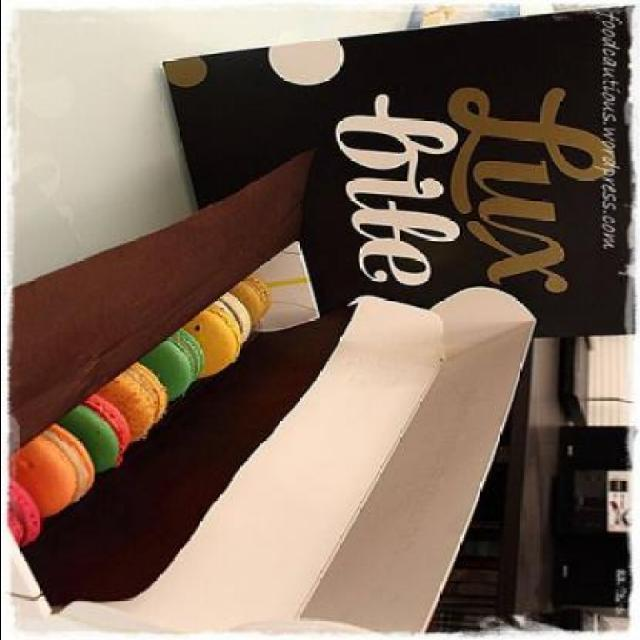Macaron: (1, 264, 277, 552)
